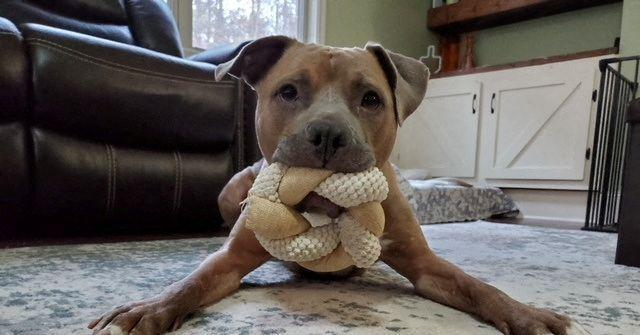dog: (87, 38, 581, 334)
